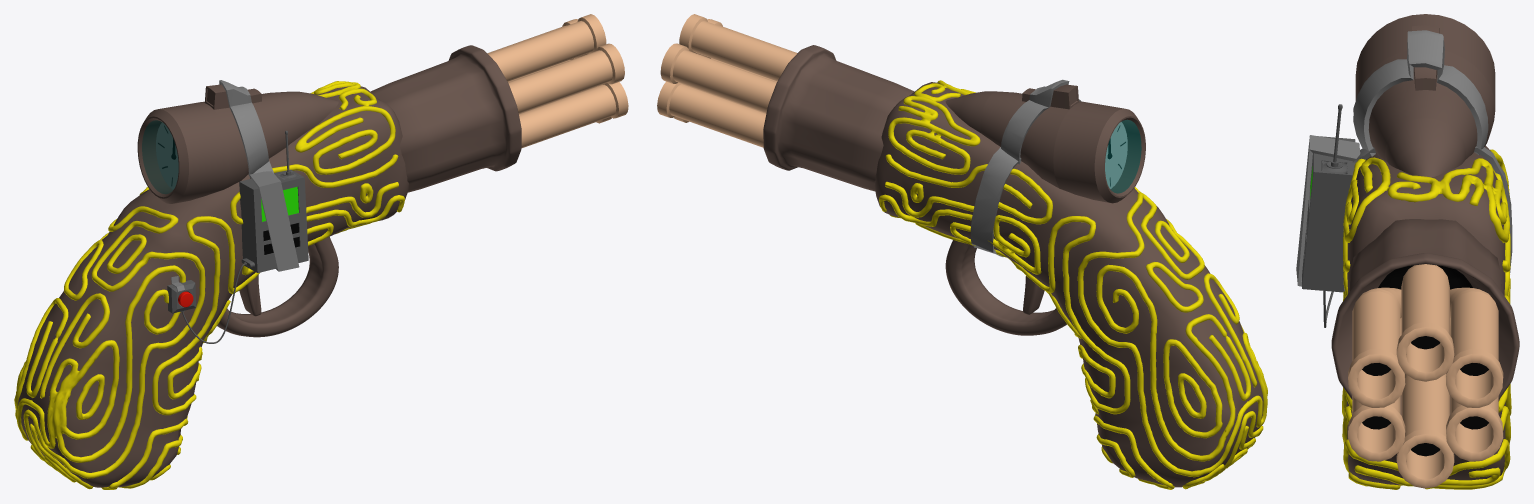
File: horrorgun.glb
3 views of the same model, side by side, from view 1: azimuth 30°, elevation 25°; view 2: azimuth 150°, elevation 25°; view 3: azimuth 270°, elevation 25° (orthographic). The views are drawn at different scales.
Visible parts, largest first — view 1: gun, cylinders; view 2: gun, cylinders; view 3: gun, cylinders.
Part boxes in pixels (x1,y1,x2,y2): gun: (14, 45, 521, 489); cylinders: (487, 14, 628, 147); gun: (763, 45, 1267, 489); cylinders: (657, 14, 797, 147); gun: (1296, 14, 1519, 489); cylinders: (1348, 264, 1503, 488).
Bounding box in the file's own units: 4.15 × 2.52 × 0.959.
